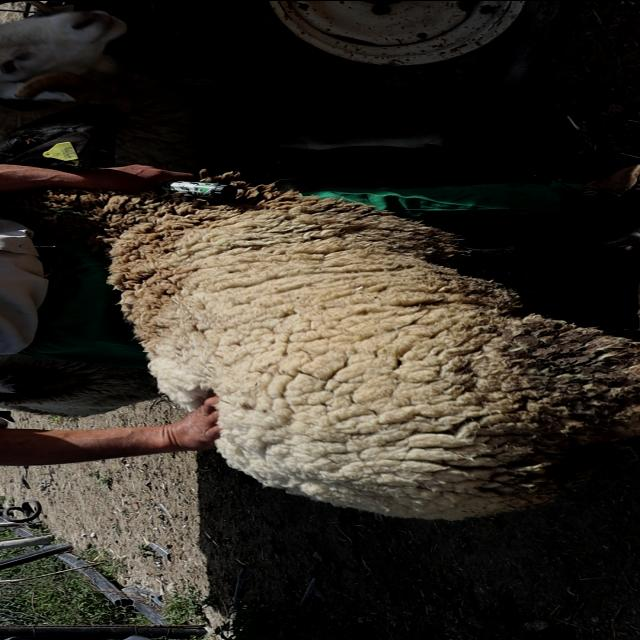Score_5: (0, 172, 639, 518)
